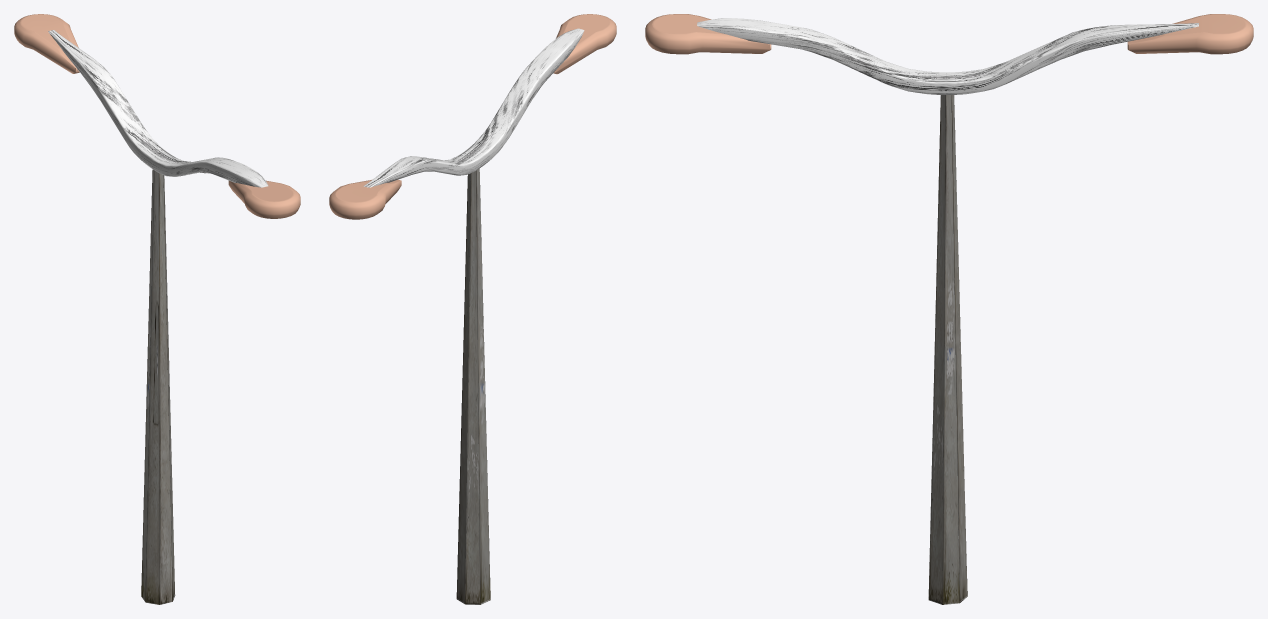
File: light.glb
3 views of the same model, side by side, from view 1: azimuth 30°, elevation 25°; view 2: azimuth 150°, elevation 25°; view 3: azimuth 270°, elevation 25° (orthographic). The views are drawn at different scales.
Visible parts, largest first — view 1: Poll_4, Light Stend_3, 2 Right Side Light_1, 1 Left side Light_0; view 2: Poll_4, Light Stend_3, 2 Right Side Light_1, 1 Left side Light_0; view 3: Poll_4, Light Stend_3, 2 Right Side Light_1, 1 Left side Light_0.
Boxes of the visible parts, left/top/right/bottom form: Poll_4: left=141, top=169, right=175, bottom=604; Light Stend_3: left=48, top=30, right=268, bottom=187; 2 Right Side Light_1: left=14, top=14, right=79, bottom=73; 1 Left side Light_0: left=228, top=180, right=300, bottom=218; Poll_4: left=456, top=168, right=490, bottom=604; Light Stend_3: left=363, top=28, right=584, bottom=187; 2 Right Side Light_1: left=329, top=179, right=401, bottom=219; 1 Left side Light_0: left=553, top=14, right=616, bottom=74; Poll_4: left=928, top=95, right=967, bottom=604; Light Stend_3: left=697, top=18, right=1198, bottom=94; 2 Right Side Light_1: left=1127, top=14, right=1253, bottom=54; 1 Left side Light_0: left=645, top=14, right=771, bottom=54.
Bounding box in the file's own units: 3.65 × 37.19 × 35.69.
Materials: 3 (2 with a texture image).
